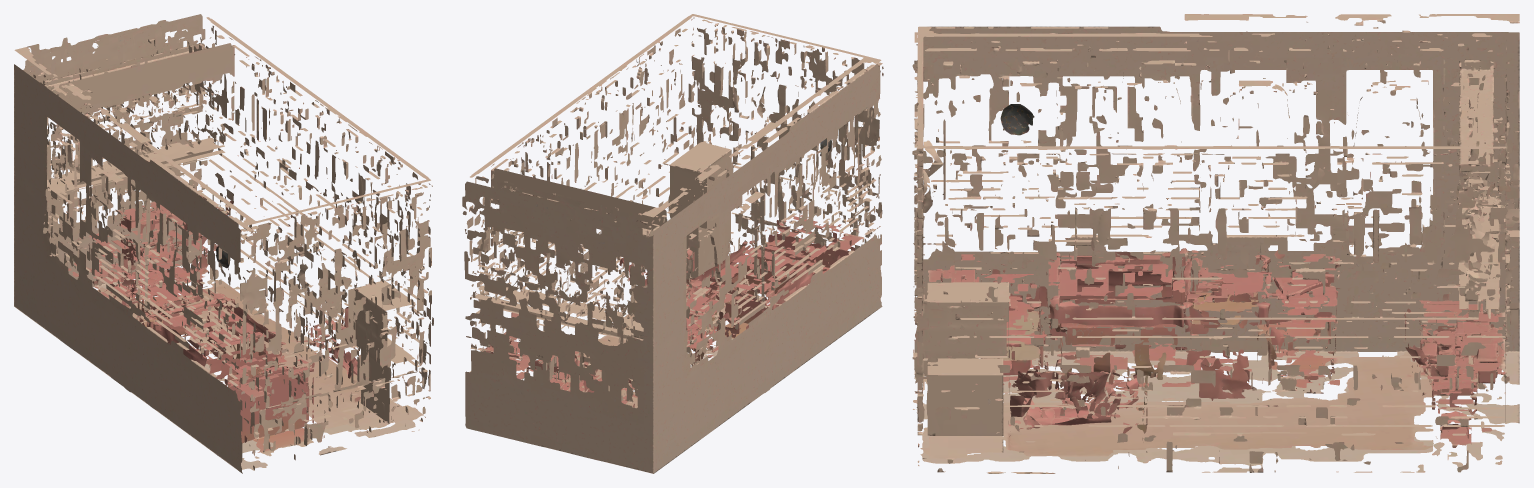
File: bathroom_right_wall.raw.glb
The picture shows the model from 3 angles, left to right: view 1: azimuth 30°, elevation 25°; view 2: azimuth 150°, elevation 25°; view 3: azimuth 270°, elevation 25°; orthographic projection. The views are drawn at different scales.
Parts seen in each view (by area): view 1: world; view 2: world; view 3: world.
Part boxes in pixels (<box>): world: <box>14,14,433,473</box>; world: <box>462,14,883,473</box>; world: <box>912,14,1519,473</box>.
Size of the model in its own units: 0.4913 by 0.6126 by 0.9937.
Materials: 1 (1 with a texture image).
